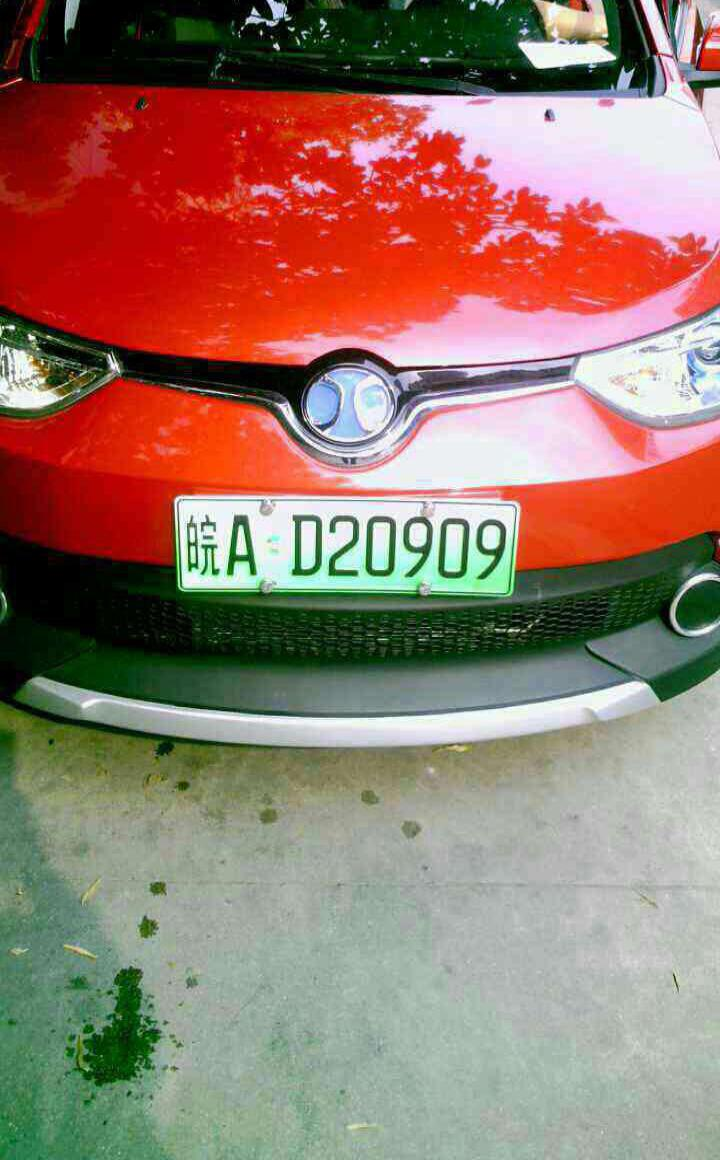car_id: (171, 496, 516, 595)
